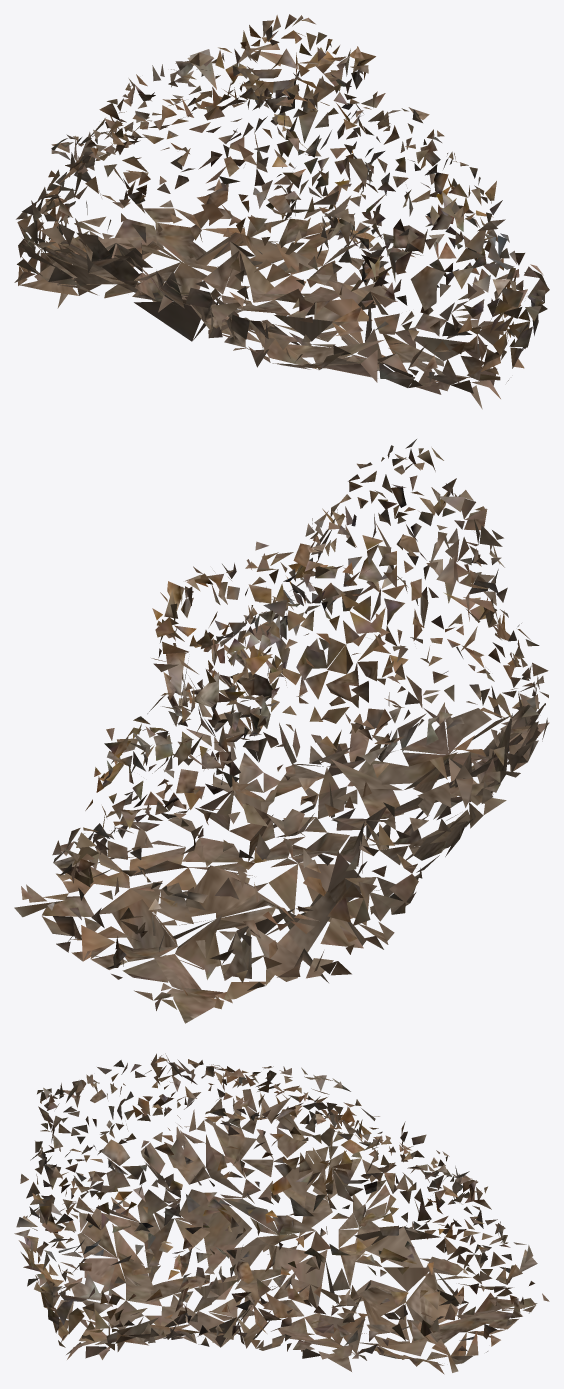
Rendered from boulder_01.glb.
3 views of the same model, one above another, from view 1: azimuth 30°, elevation 25°; view 2: azimuth 150°, elevation 25°; view 3: azimuth 270°, elevation 25° (orthographic). The views are drawn at different scales.
Parts seen in each view (by area): view 1: boulder_01; view 2: boulder_01; view 3: boulder_01.
Part boxes in pixels (x1,y1,x2,y2): boulder_01: [14, 14, 549, 409]; boulder_01: [14, 439, 549, 1023]; boulder_01: [14, 1053, 549, 1374].
Bounding box in the file's own units: 1.27 × 1.03 × 1.84.
Materials: 1 (1 with a texture image).
